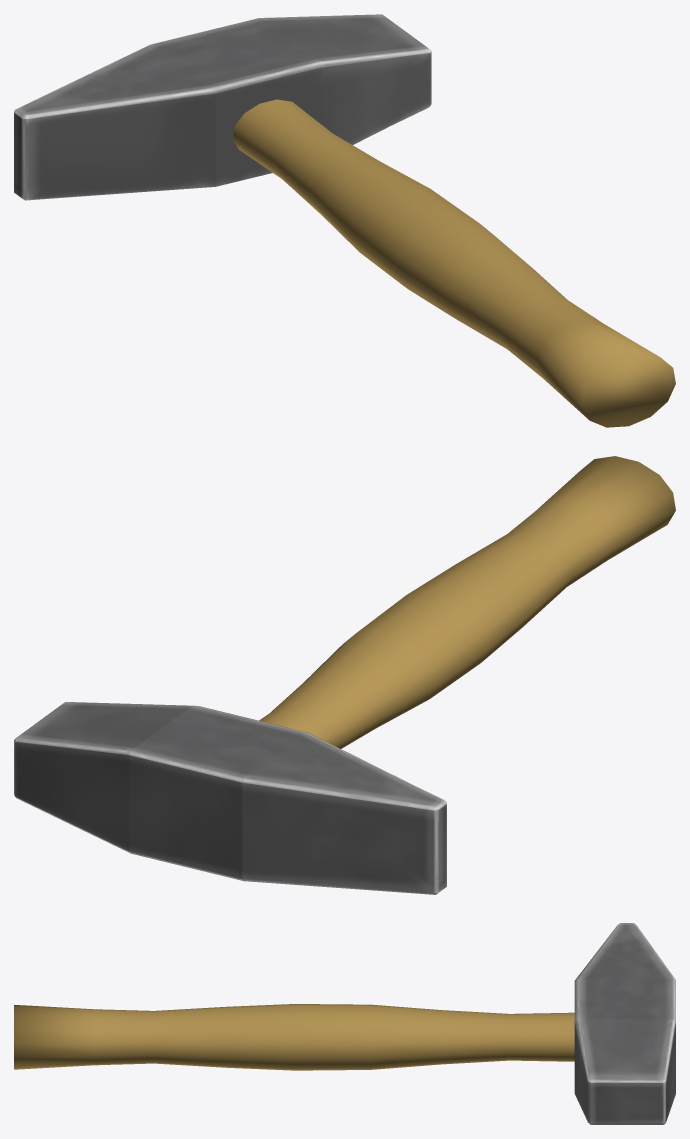
Rendered from Hammer.fbx.
The picture shows the model from 3 angles, top to bottom: view 1: azimuth 30°, elevation 25°; view 2: azimuth 150°, elevation 25°; view 3: azimuth 270°, elevation 25°; orthographic projection. The views are drawn at different scales.
Parts seen in each view (by area): view 1: Hammer; view 2: Hammer; view 3: Hammer.
Boxes of the visible parts, x1=… form: Hammer: x1=14, y1=14, x2=675, y2=427; Hammer: x1=14, y1=456, x2=675, y2=894; Hammer: x1=14, y1=923, x2=675, y2=1124.
Bounding box in the file's own units: 209 × 50.69 × 395.
1 material, 1 textured.
